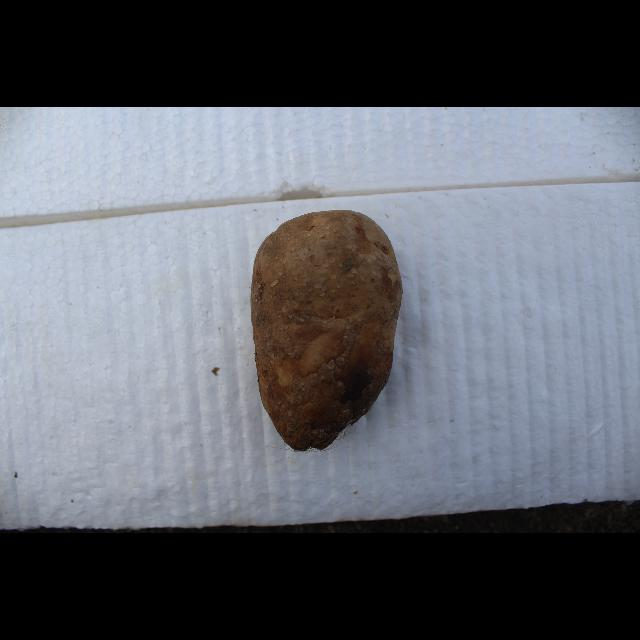Diseased-fungal potato: (242, 207, 404, 458)
